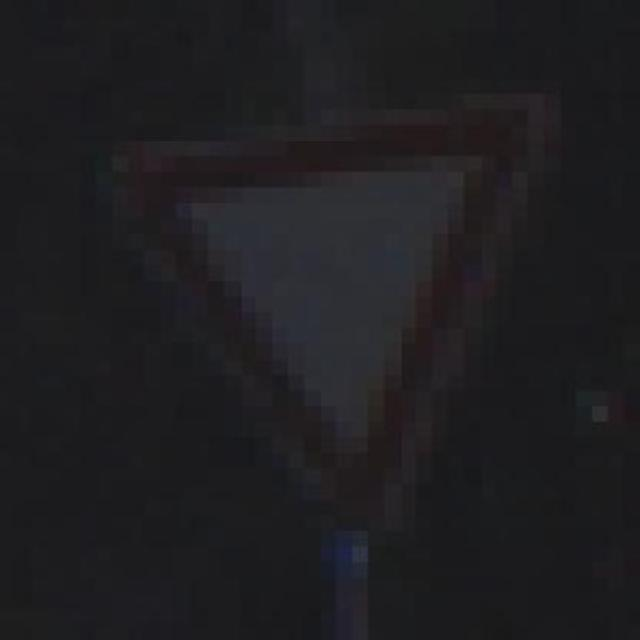Give Way: (94, 63, 592, 548)
